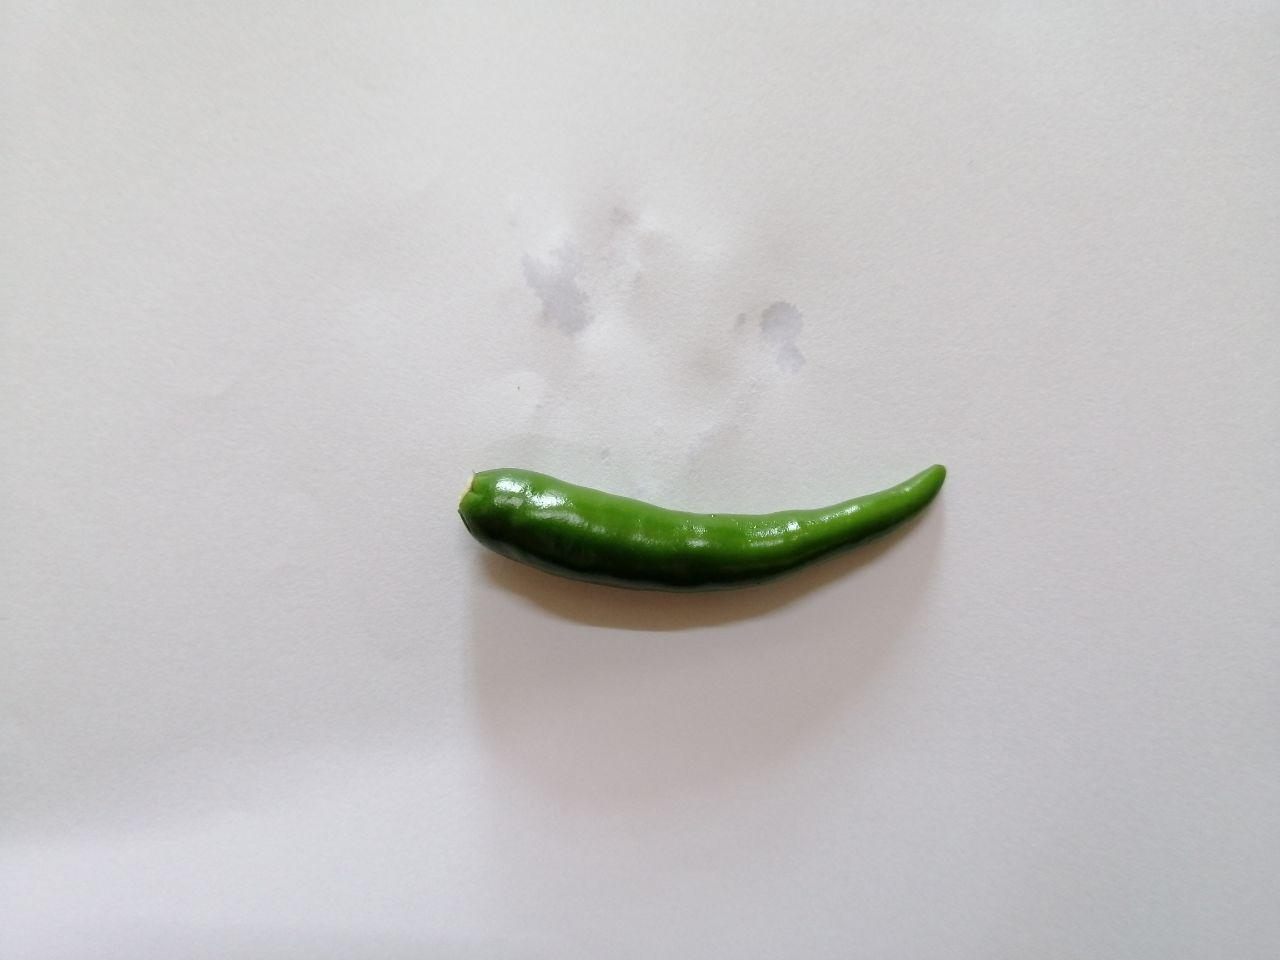lada hijau: (455, 436, 981, 621)
